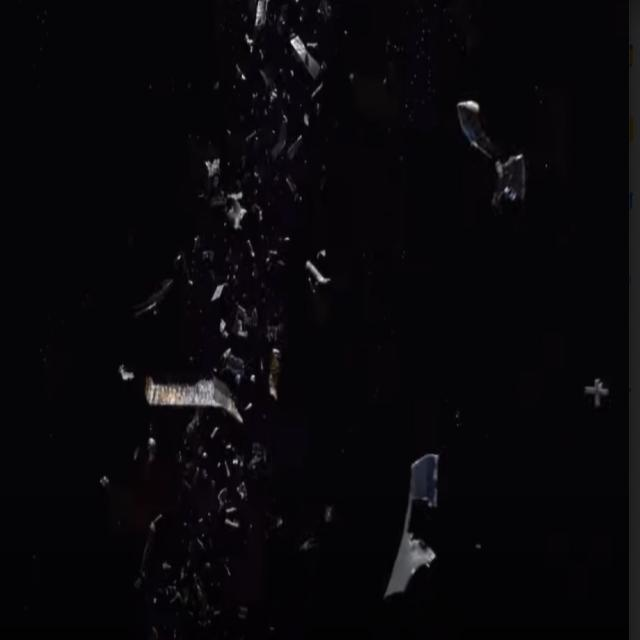large_debris: (448, 79, 534, 225), (377, 431, 446, 610), (138, 362, 252, 435), (283, 28, 325, 88), (299, 238, 335, 305), (260, 340, 290, 405), (197, 147, 226, 189)
